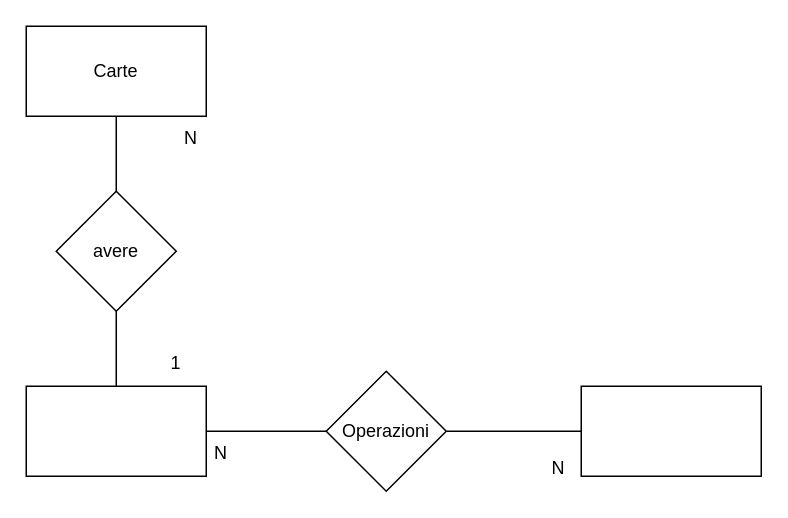
Some shapes in this 788 by 518 pixel diagram are drawn without their labels. The shapes that lost their labels are listed below. From the top down, each one's centre as x and y in pixels, then its label:
the point at 115,430: Utenti
the point at 670,430: Prodotti
